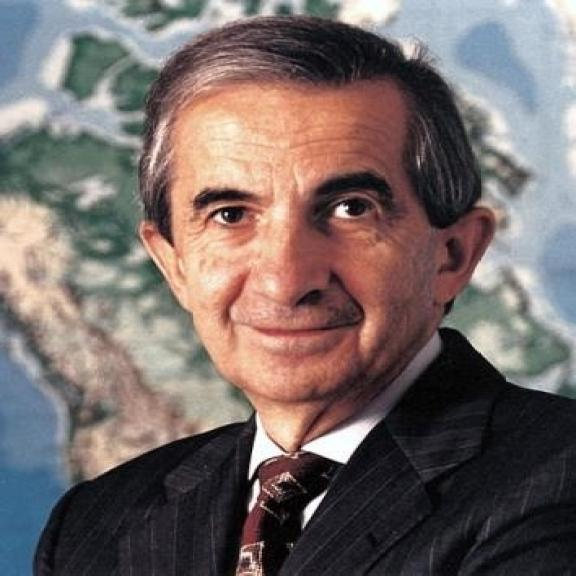face: (139, 48, 502, 400)
